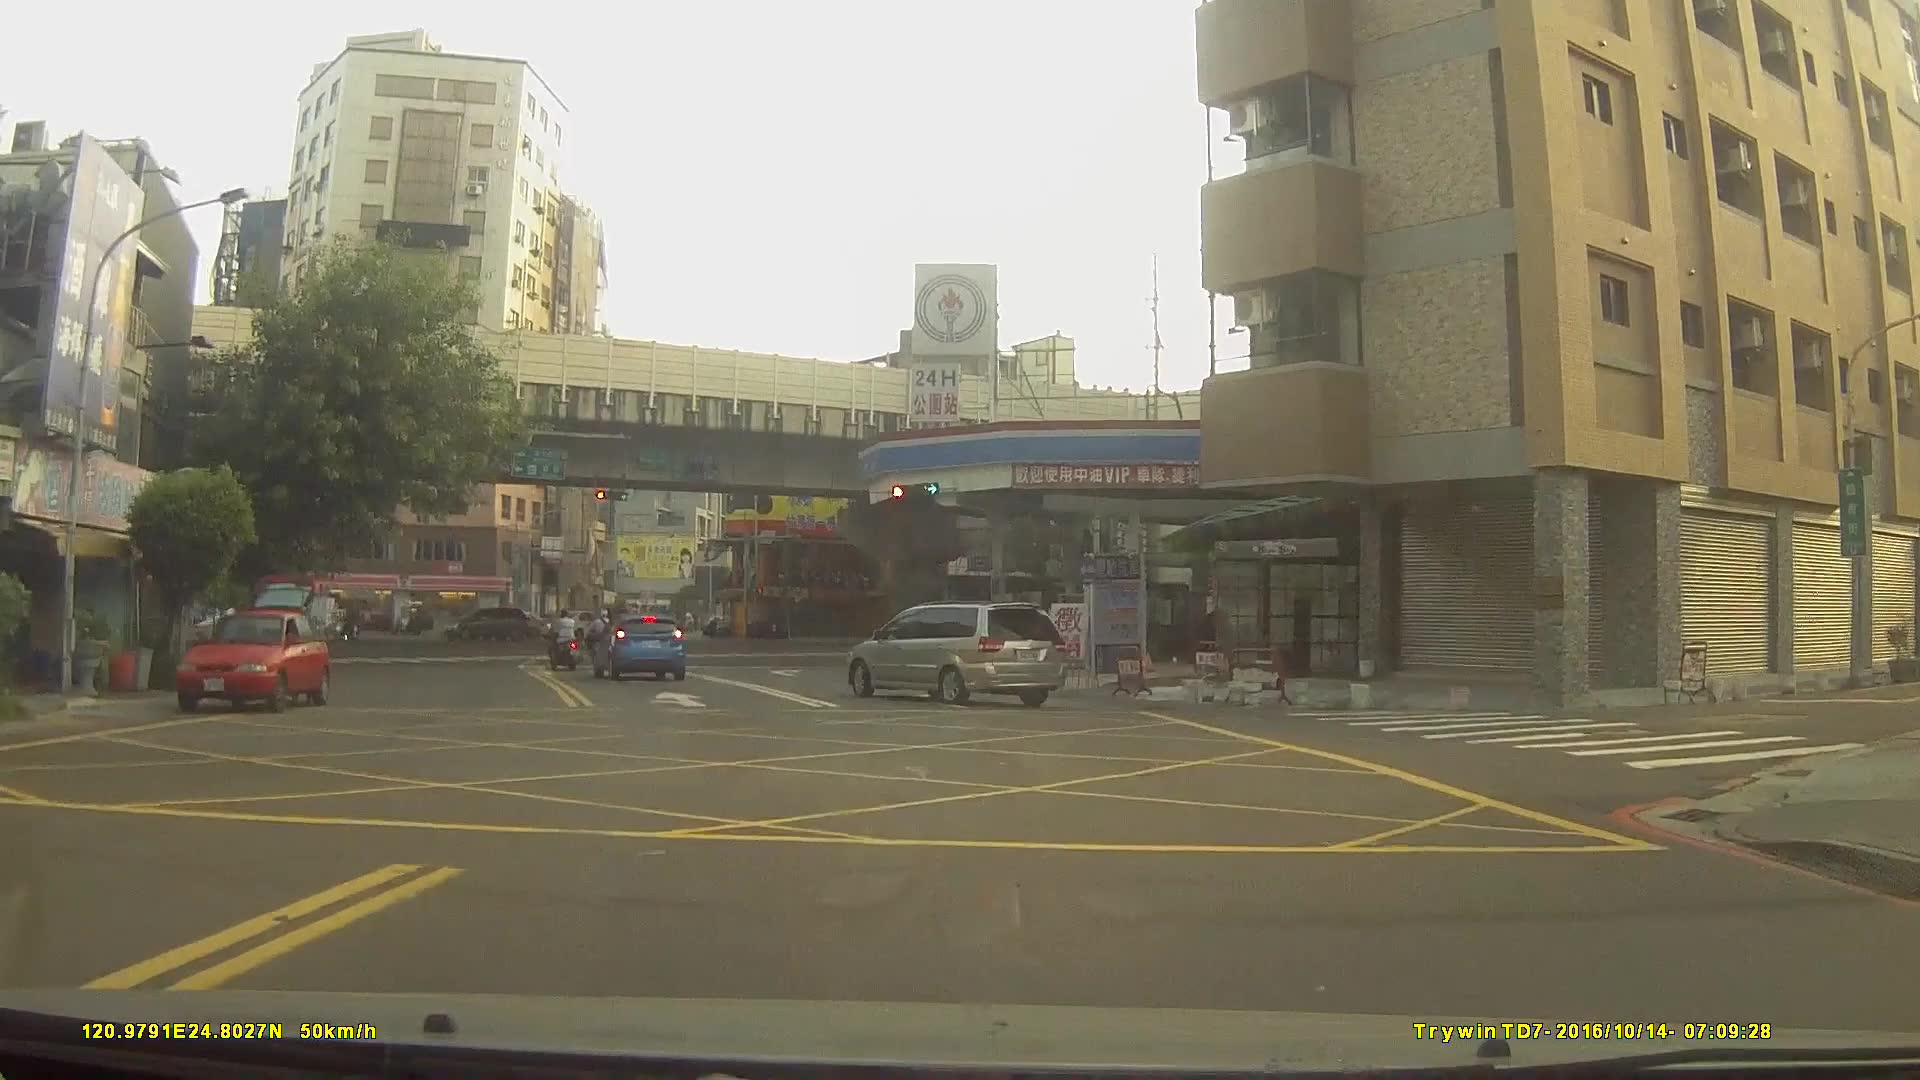rider: (545, 610, 579, 670), (336, 602, 363, 644)
vehicle: (846, 602, 1066, 706), (173, 605, 330, 714), (587, 611, 686, 680), (438, 609, 533, 646), (538, 604, 617, 638)
